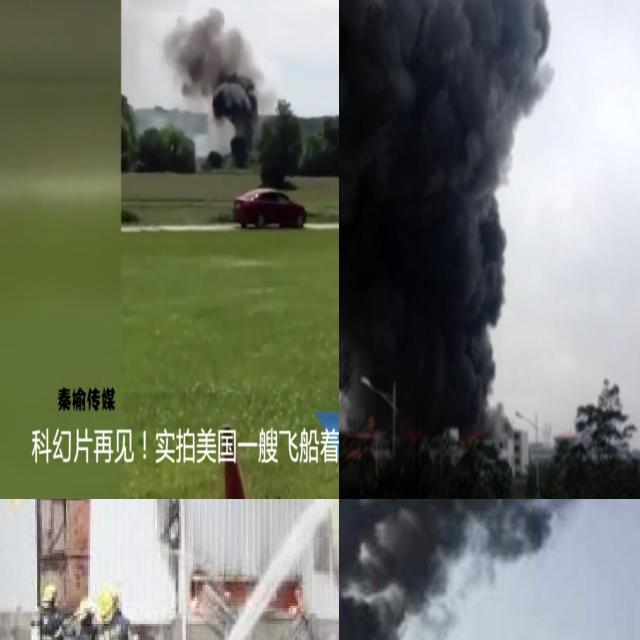smoke: (339, 0, 552, 432), (339, 499, 640, 640), (165, 10, 274, 165)
